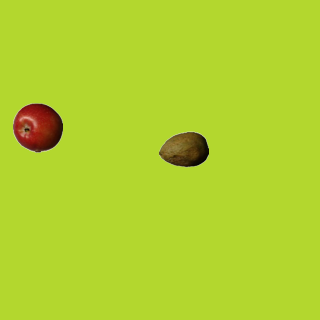Apple Braeburn: (12, 102, 62, 152)
Papaya: (158, 124, 208, 174)
